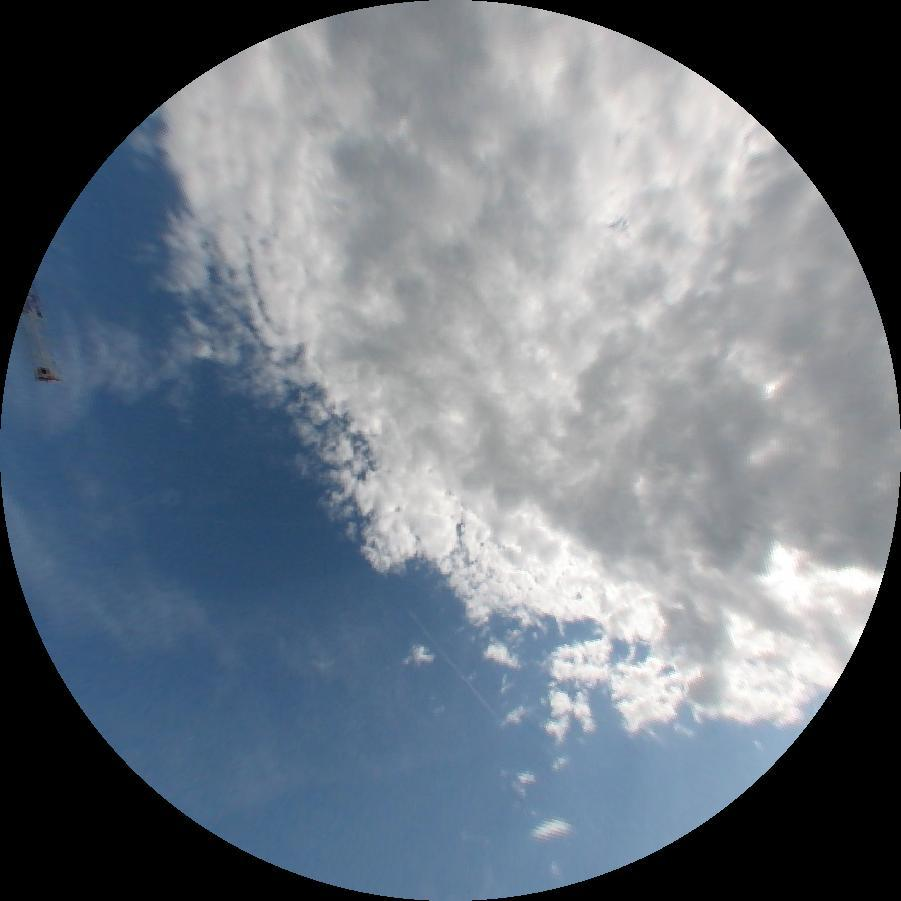contrail young: (406, 609, 501, 723)
